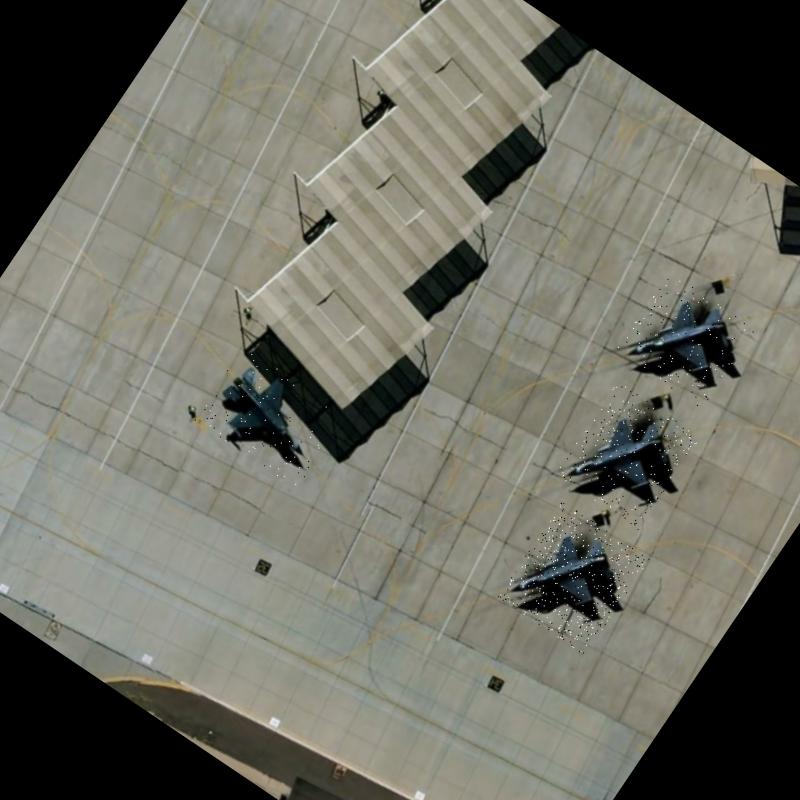A5: (498, 501, 650, 656), (554, 381, 701, 530), (194, 346, 347, 489), (614, 272, 758, 412)
